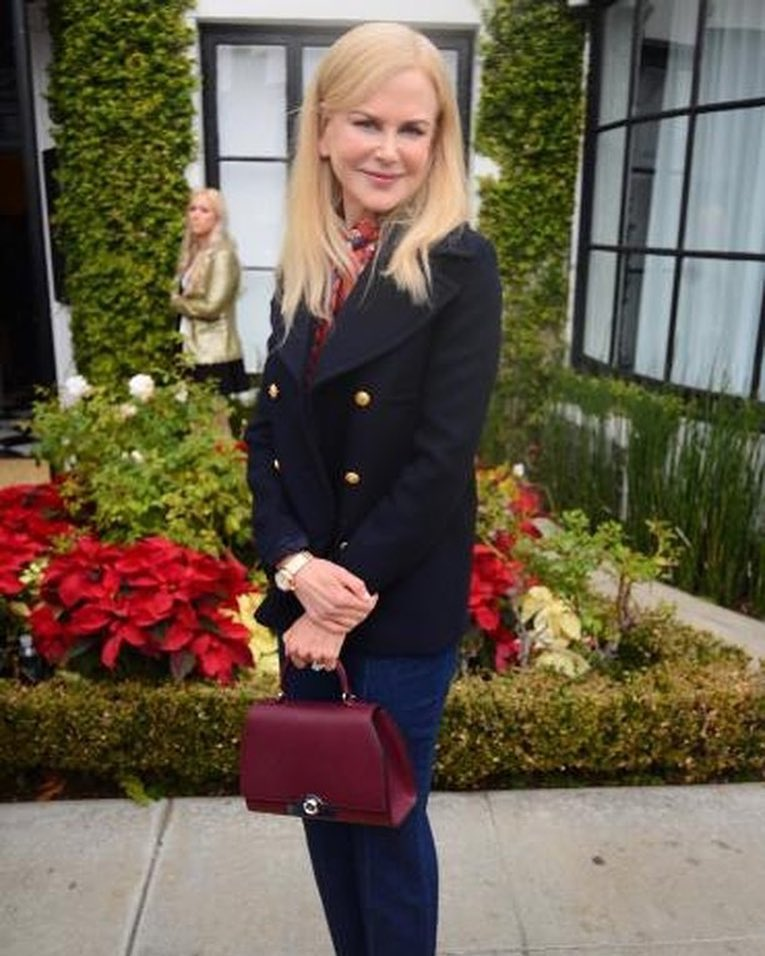hand: (286, 559, 373, 625)
